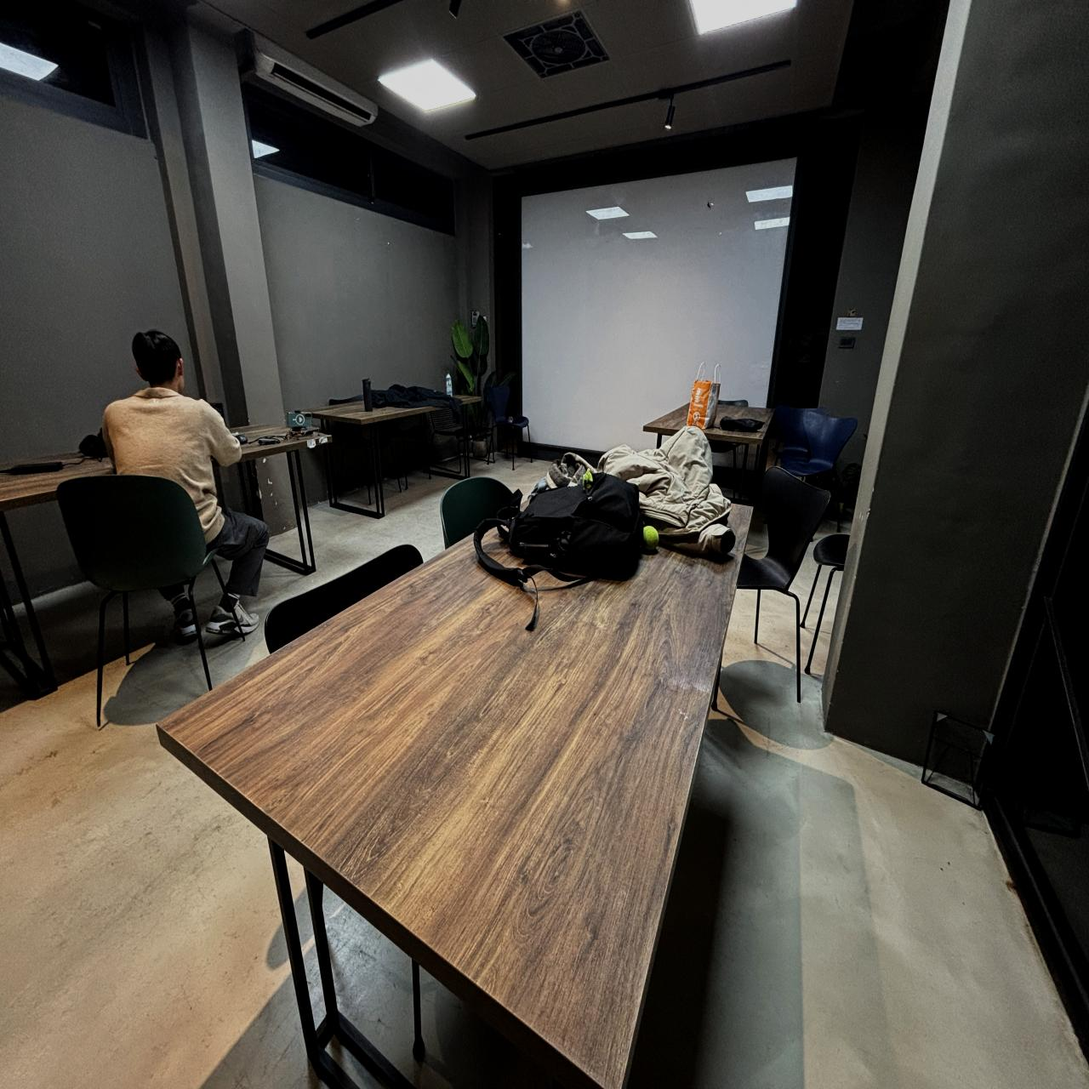plastic-bottle: (445, 372, 453, 396)
tennisball: (642, 526, 659, 551)
